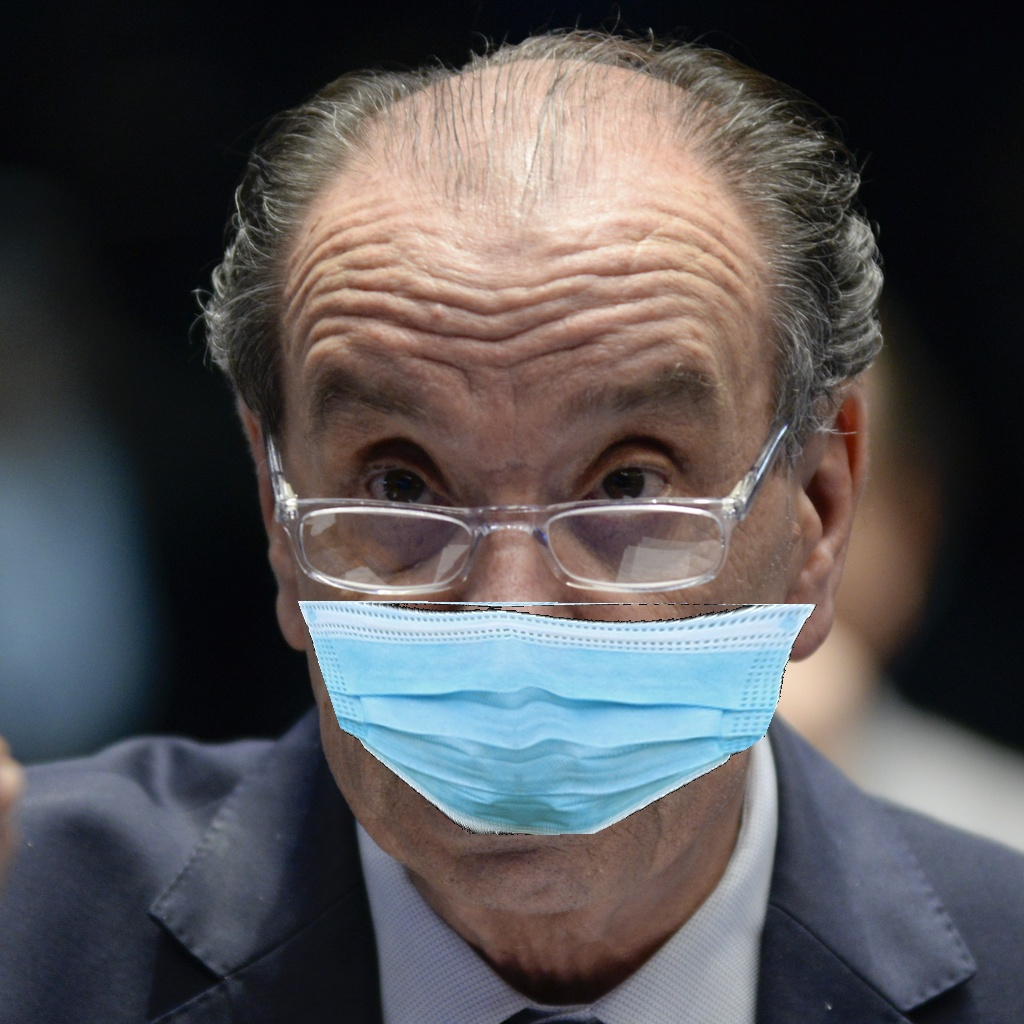mask_weared_incorrect: (255, 373, 834, 879)
